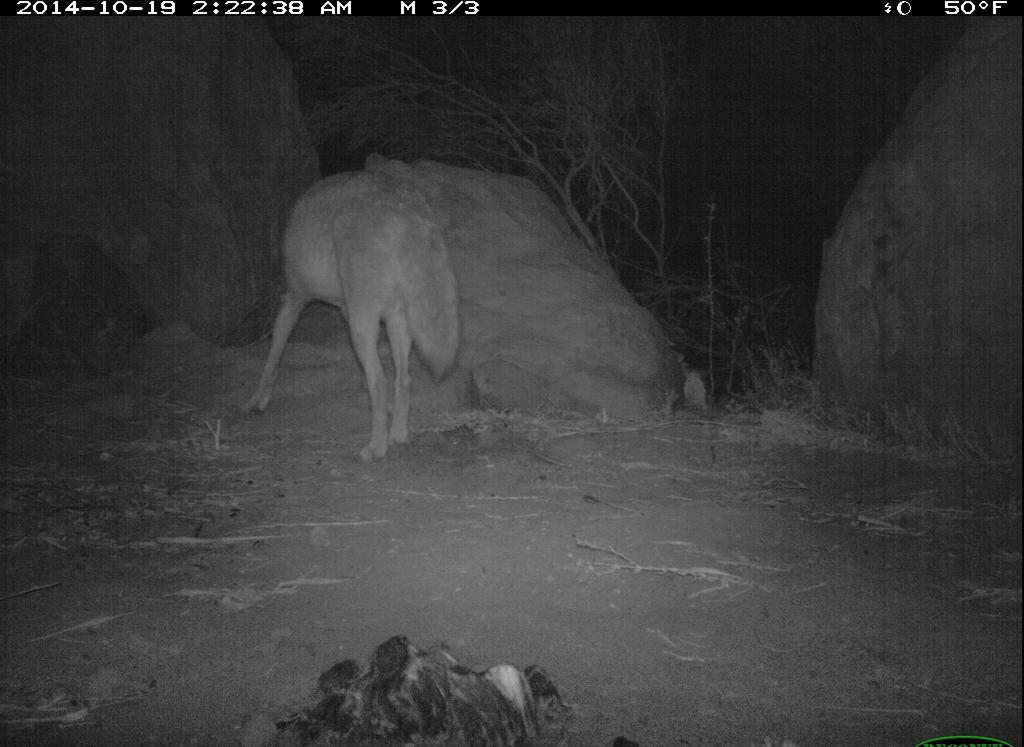coyote: (246, 163, 469, 470)
